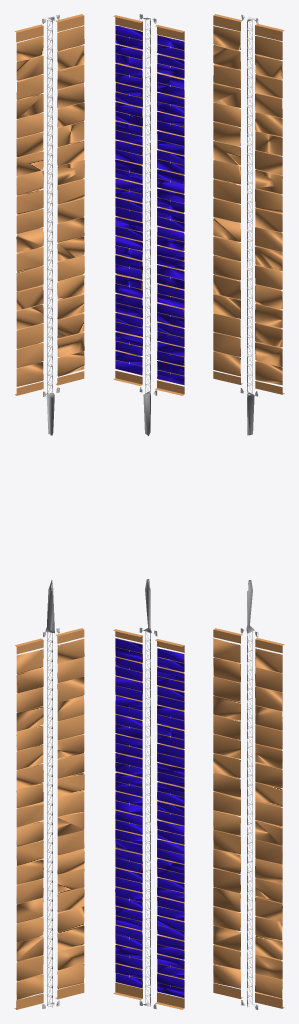
File: tiangong-wentian-arrays.glb
The picture shows the model from 3 angles, left to right: view 1: azimuth 30°, elevation 25°; view 2: azimuth 150°, elevation 25°; view 3: azimuth 330°, elevation 25°; orthographic projection.
Visible parts, largest first — view 1: wentian-arrays; view 2: wentian-arrays; view 3: wentian-arrays.
Part boxes in pixels (left/top/right/bottom): wentian-arrays: left=14, top=14, right=84, bottom=1009; wentian-arrays: left=113, top=14, right=184, bottom=1009; wentian-arrays: left=213, top=14, right=284, bottom=1009.
Bounding box in the file's own units: 4.12 × 56.6 × 0.5251.
Materials: 1 (1 with a texture image).
